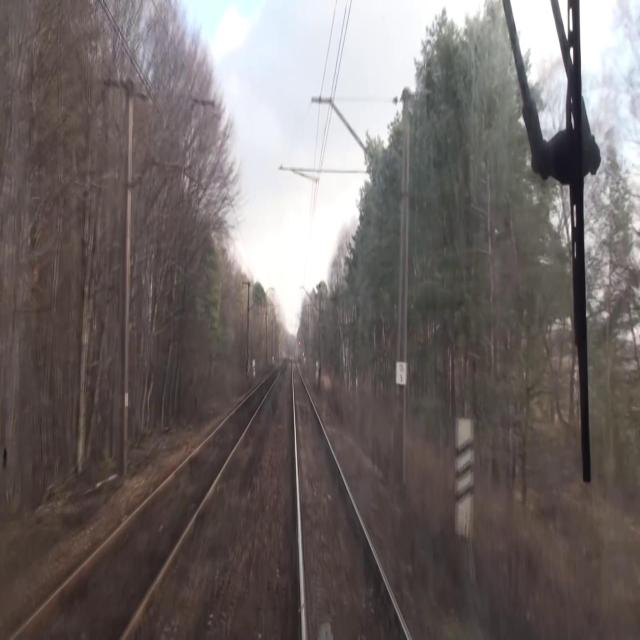rail-track: (17, 370, 278, 639), (294, 363, 405, 639)
